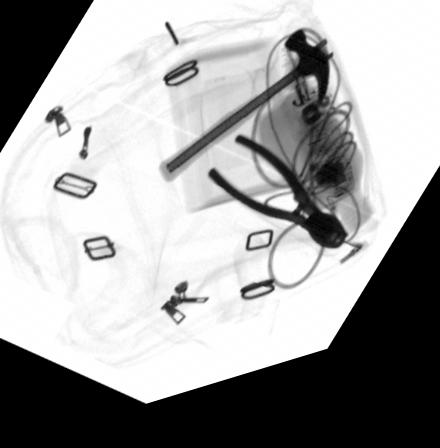Hammer: (157, 45, 330, 192)
Pliers: (206, 150, 347, 268)
